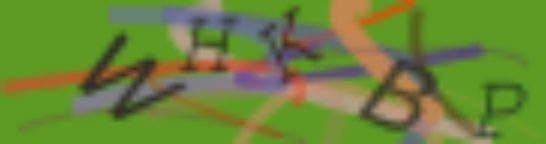B: (355, 57, 441, 136)
H: (176, 16, 240, 76)
K: (252, 3, 328, 88)
P: (469, 79, 533, 143)
W: (73, 25, 188, 127)
